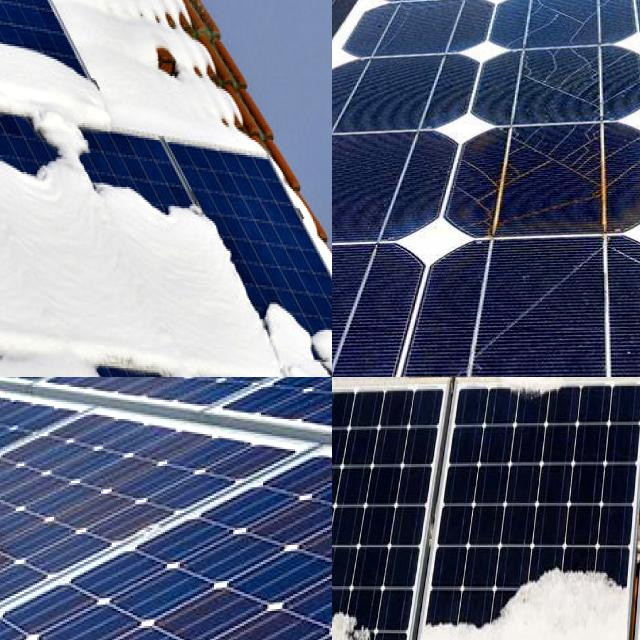crack: (0, 377, 332, 640)
panel: (144, 26, 262, 158), (60, 8, 134, 135), (230, 263, 314, 348), (463, 377, 580, 438), (0, 127, 88, 207), (559, 547, 629, 640), (487, 544, 548, 640), (332, 563, 405, 640), (68, 333, 191, 377), (112, 168, 190, 228), (207, 213, 264, 286), (332, 508, 371, 604), (0, 16, 66, 71), (108, 347, 226, 377), (421, 585, 484, 640), (332, 394, 395, 447), (0, 119, 51, 184), (381, 377, 451, 420), (332, 509, 379, 570), (0, 287, 34, 368), (13, 0, 73, 41), (0, 89, 39, 149), (0, 73, 37, 134), (332, 377, 377, 427), (0, 309, 32, 377), (332, 573, 363, 640), (0, 0, 35, 59), (332, 377, 374, 422), (586, 377, 640, 408), (332, 377, 357, 434), (332, 377, 373, 411), (0, 0, 26, 45), (0, 0, 39, 29), (332, 610, 369, 640), (0, 0, 34, 27), (0, 68, 15, 111)
shadow: (454, 86, 640, 261)
